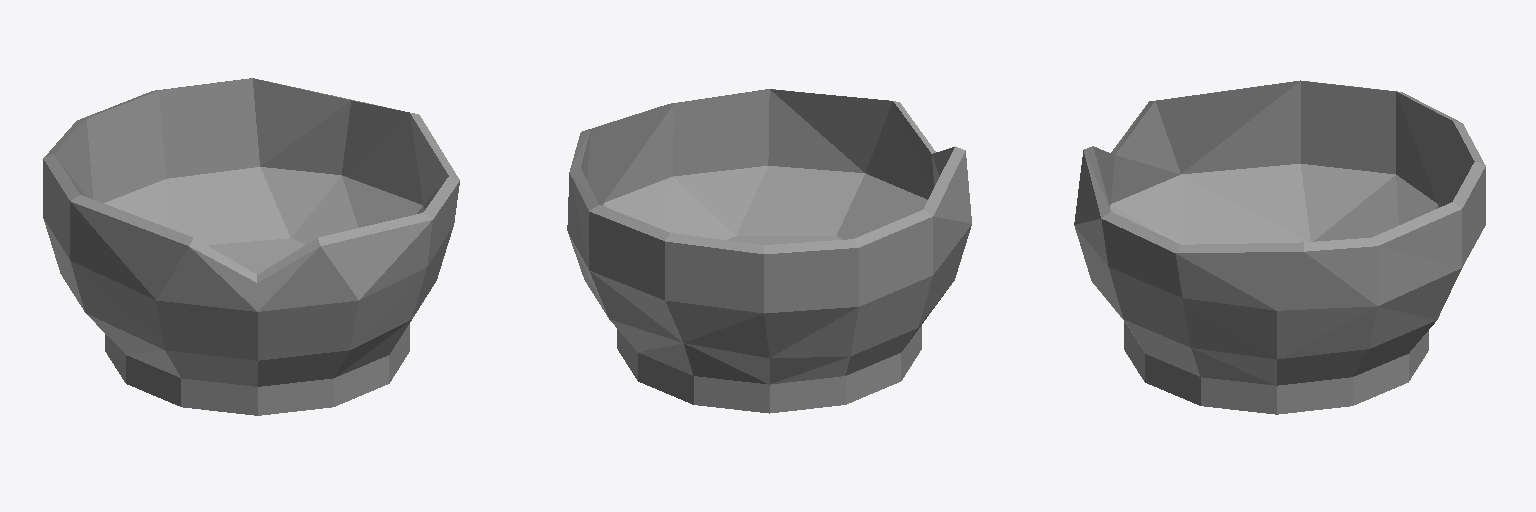
File: bowl.obj
3 renders of one model, left to right at view 1: azimuth 30°, elevation 25°; view 2: azimuth 150°, elevation 25°; view 3: azimuth 270°, elevation 25°, orthographic.
Visible parts, largest first — view 1: s4studio_mesh_1; view 2: s4studio_mesh_1; view 3: s4studio_mesh_1.
Boxes of the visible parts, <box> form: s4studio_mesh_1: <box>43,78,459,415</box>; s4studio_mesh_1: <box>567,89,971,413</box>; s4studio_mesh_1: <box>1074,80,1485,414</box>.
Bounding box in the file's own units: 0.2184 × 0.1123 × 0.2219.